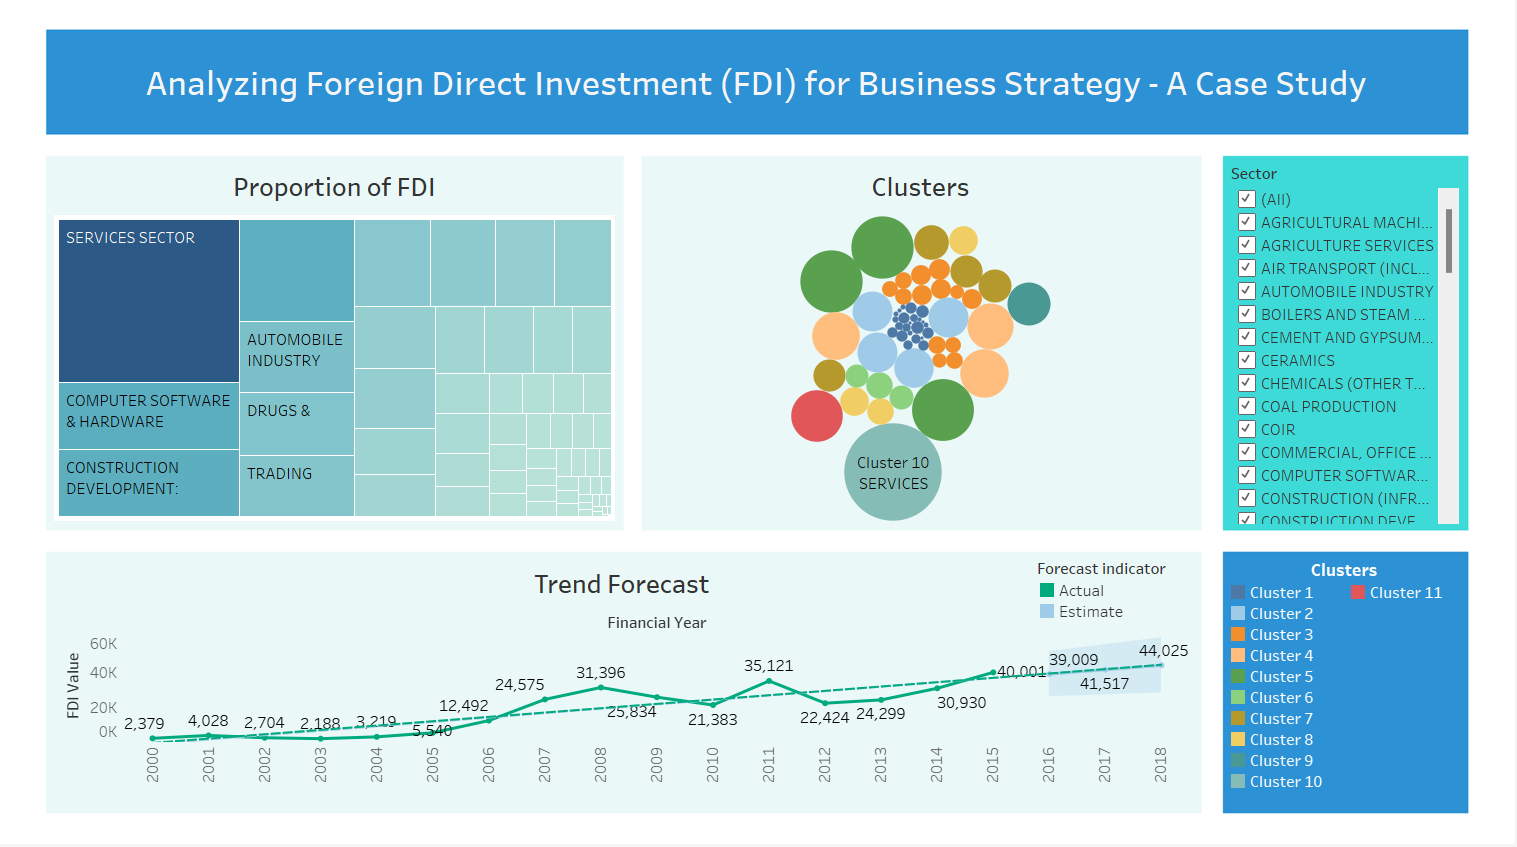

The page's visual inventory and layout, read from the dashboard file:
{"tool":"tableau","page":{"name":"Dashboard 1","canvas":[1520,845],"ordinal":0},"visuals":[{"type":"image","param":"Image/Background.png","box":[8,8,1504,829]},{"type":"text","box":[54,33,1412,97]},{"type":"filter","title":"Trend Forecast","param":"[federated.1mnctoj0rsr9751bx7hz61ybesey].[none:Sector:nk]","box":[1231,159,236,369]},{"type":"worksheet","title":"Proportion of FDI","mark":"Automatic","box":[54,161,569,364]},{"type":"worksheet","title":"Clusters","mark":"Circle","box":[648,161,553,364]},{"type":"legend","title":"Clusters","param":"[federated.1mnctoj0rsr9751bx7hz61ybesey].[none:AdhocCluster:1:ok]","box":[1228,554,240,257]},{"type":"worksheet","title":"Trend Forecast","mark":"Automatic","rows":["Pivot Field Values"],"cols":["Calculation_905505052140564480"],"box":[55,558,1142,248]},{"type":"legend","title":"Trend Forecast","param":"[federated.1mnctoj0rsr9751bx7hz61ybesey].[none:Forecast Indicator:nk]","box":[1041,558,157,64]}]}

Visuals, with their boxes in screenshot pixels (x1, y1, x2, y2), scaled from the page's 1520x845 canvas onto the 1517x847 screenshot:
image: {"x1": 8, "y1": 8, "x2": 1509, "y2": 839}
text: {"x1": 54, "y1": 33, "x2": 1463, "y2": 130}
"Trend Forecast" filter: {"x1": 1229, "y1": 159, "x2": 1464, "y2": 529}
"Proportion of FDI" worksheet: {"x1": 54, "y1": 161, "x2": 622, "y2": 526}
"Clusters" worksheet (Circle marks): {"x1": 647, "y1": 161, "x2": 1199, "y2": 526}
"Clusters" legend: {"x1": 1226, "y1": 555, "x2": 1465, "y2": 813}
"Trend Forecast" worksheet: {"x1": 55, "y1": 559, "x2": 1195, "y2": 808}
"Trend Forecast" legend: {"x1": 1039, "y1": 559, "x2": 1196, "y2": 623}
